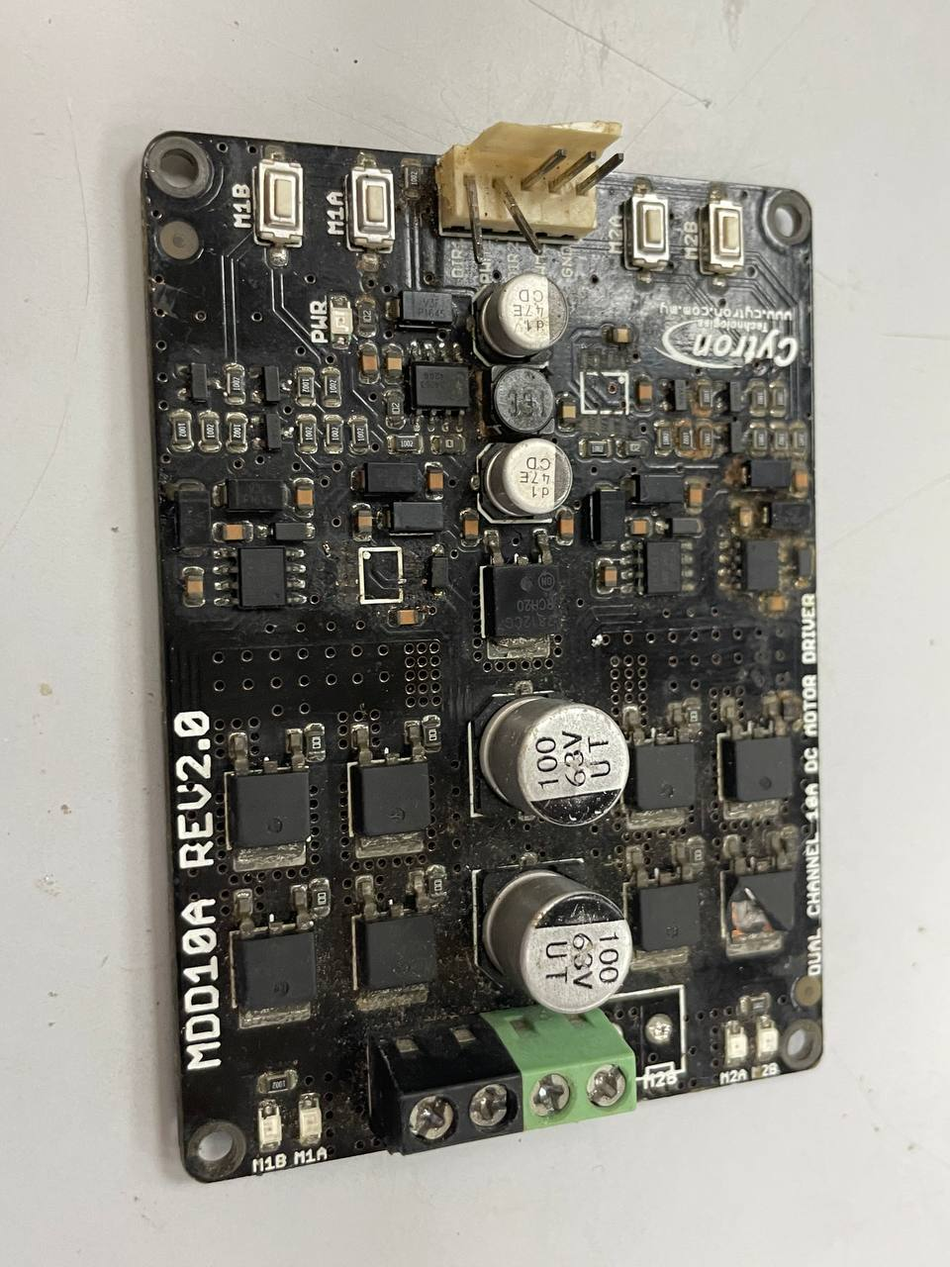bent_pin: (488, 172, 549, 260), (447, 168, 492, 268)
broken_comp: (719, 865, 797, 949)
missing_comp: (355, 543, 407, 609), (575, 367, 634, 420)
missing_tb: (607, 981, 687, 1091)
